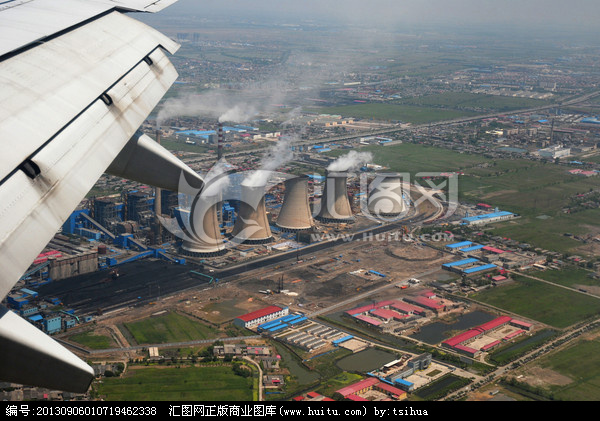dust: (149, 84, 292, 134), (238, 150, 302, 189), (316, 147, 380, 176)
